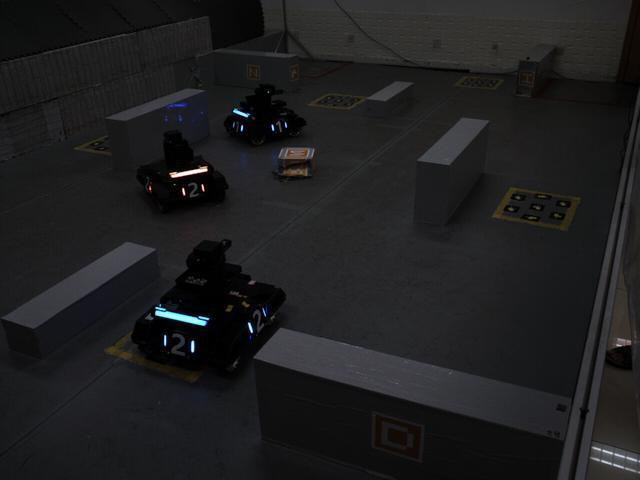armor: (156, 326, 199, 363), (242, 300, 271, 344), (265, 117, 291, 136), (228, 117, 247, 138)
